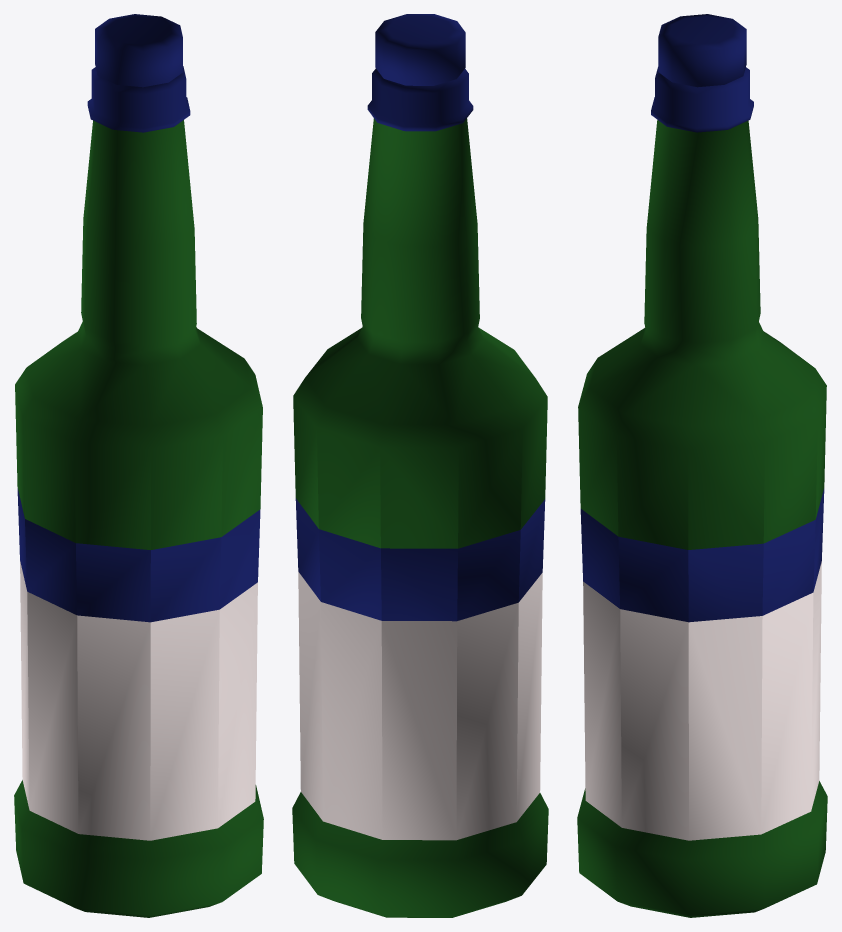
Rendered from Wine 25.fbx.
3 renders of one model, left to right at view 1: azimuth 30°, elevation 25°; view 2: azimuth 150°, elevation 25°; view 3: azimuth 270°, elevation 25°, orthographic.
Visible parts, largest first — view 1: Node 0; view 2: Node 0; view 3: Node 0.
Part boxes in pixels (x1,y1,x2,y2): Node 0: (14,14,263,917); Node 0: (292,14,548,917); Node 0: (577,14,827,917).
Size of the model in its own units: 0.0605 by 0.2247 by 0.0614.
